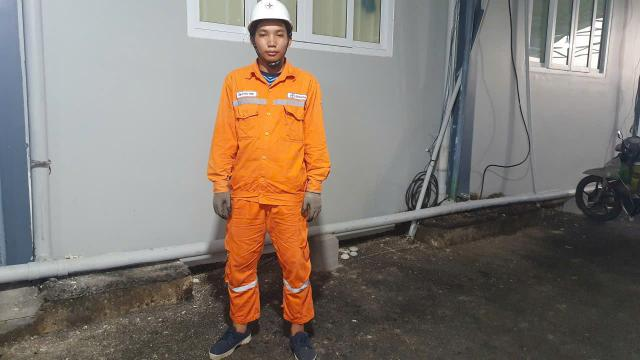gloves: (290, 181, 325, 228), (205, 184, 234, 222)
helmet: (245, 0, 302, 44)
shoes: (204, 323, 261, 360), (273, 329, 322, 360)
